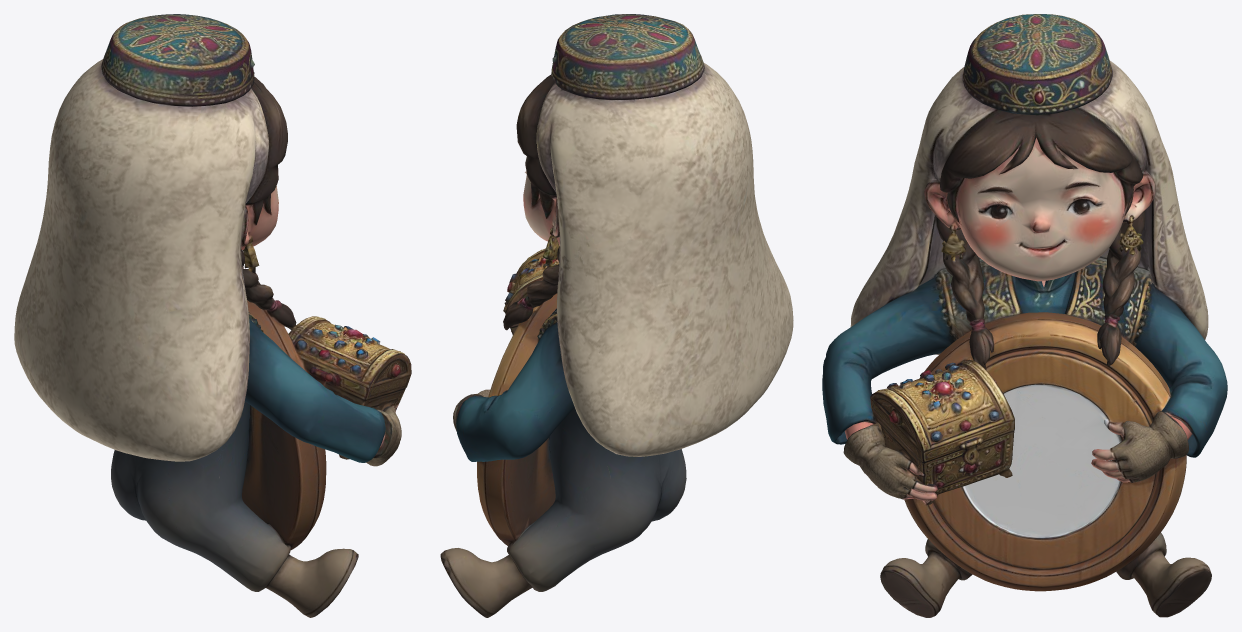
Rendered from n_w12_yuan_merchant.glb.
3 views of the same model, side by side, from view 1: azimuth 30°, elevation 25°; view 2: azimuth 150°, elevation 25°; view 3: azimuth 270°, elevation 25° (orthographic). The views are drawn at different scales.
Visible parts, largest first — view 1: tripo_node_a5457765-991d-423b-a383-f44ff56b2a87; view 2: tripo_node_a5457765-991d-423b-a383-f44ff56b2a87; view 3: tripo_node_a5457765-991d-423b-a383-f44ff56b2a87.
Part boxes in pixels (box(x1,y1,x2,y2)): tripo_node_a5457765-991d-423b-a383-f44ff56b2a87: box(14, 14, 411, 617); tripo_node_a5457765-991d-423b-a383-f44ff56b2a87: box(440, 14, 793, 617); tripo_node_a5457765-991d-423b-a383-f44ff56b2a87: box(822, 14, 1227, 617).
Size of the model in its own units: 0.5297 by 0.9802 by 0.6547.
Materials: 1 (1 with a texture image).
